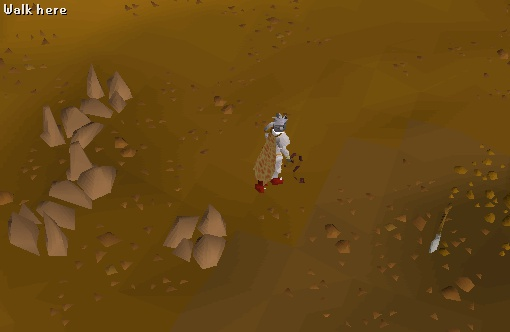copper: (41, 139, 126, 216), (160, 197, 236, 279)
